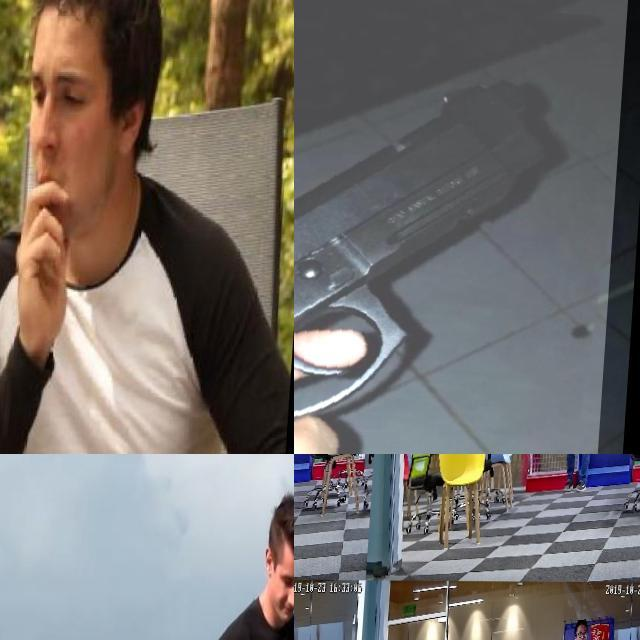-: (0, 222, 41, 426)
gun-knife-thesis - v11 Yolov5 augmented: (294, 0, 629, 454), (294, 454, 304, 469), (563, 454, 577, 464)
